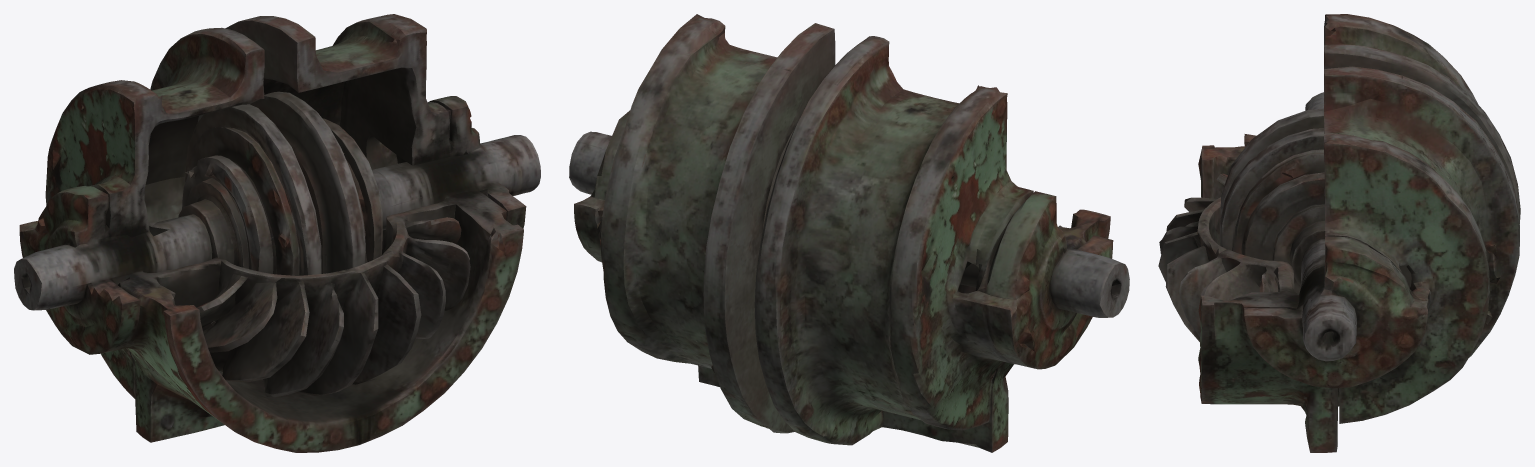
The model's file is reactor_rotor_b_meshy.glb.
3 renders of one model, left to right at view 1: azimuth 30°, elevation 25°; view 2: azimuth 150°, elevation 25°; view 3: azimuth 270°, elevation 25°, orthographic. The views are drawn at different scales.
Size of the model in its own units: 1.9 by 1.3 by 1.29.
Materials: 1 (1 with a texture image).
